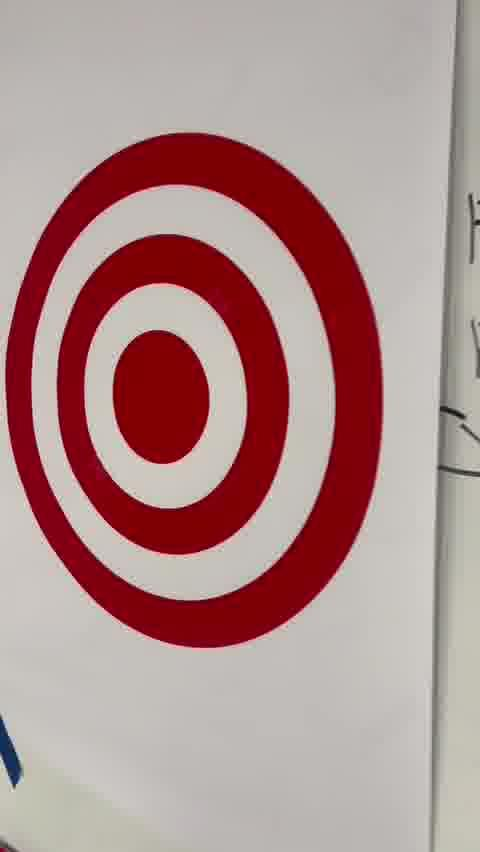target_red: (3, 129, 382, 649)
